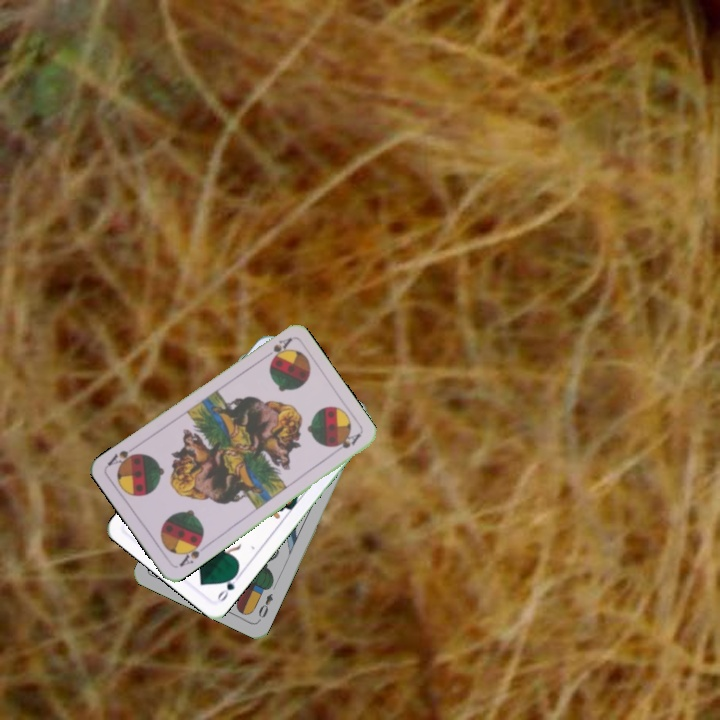EO: (254, 589, 276, 621)
GO: (213, 568, 244, 605)
SA: (175, 536, 210, 570), (258, 334, 294, 362)
